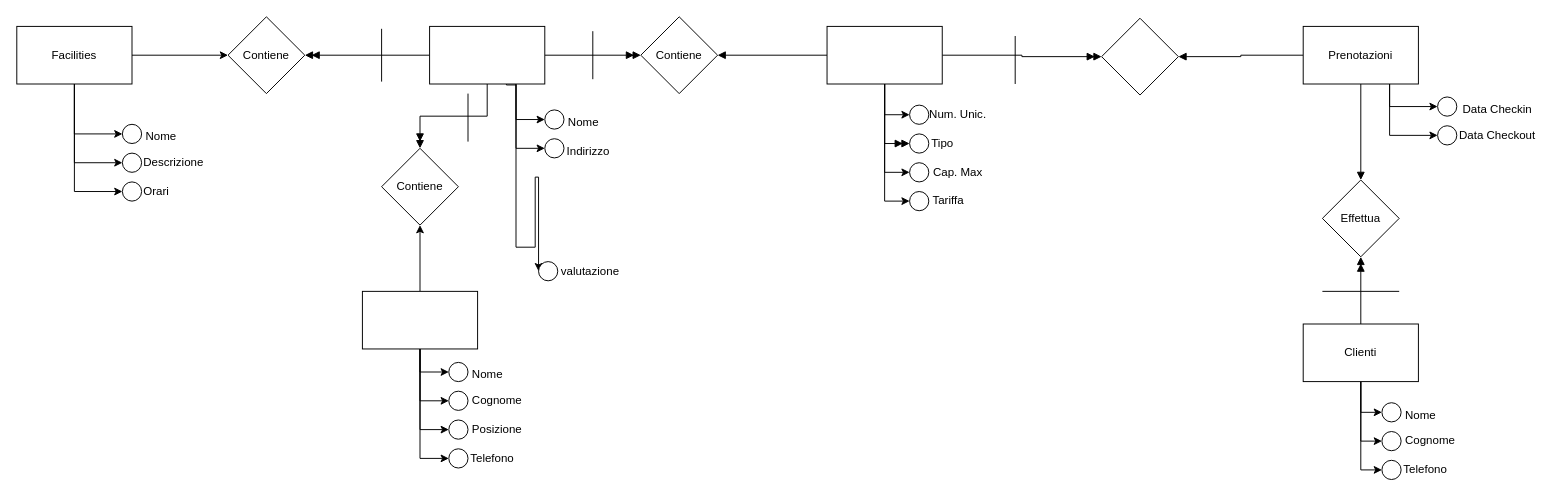
The diagram is 1562 pixels wide and 501 high, and some of its shapes have lost their labels. Here are the shapes that lost their labels. From the top down, the box of each, then its label:
(429, 25, 545, 84): Albergo
(826, 25, 942, 84): Camere
(1101, 17, 1178, 95): Bloccata
(361, 290, 478, 349): Dipendenti
